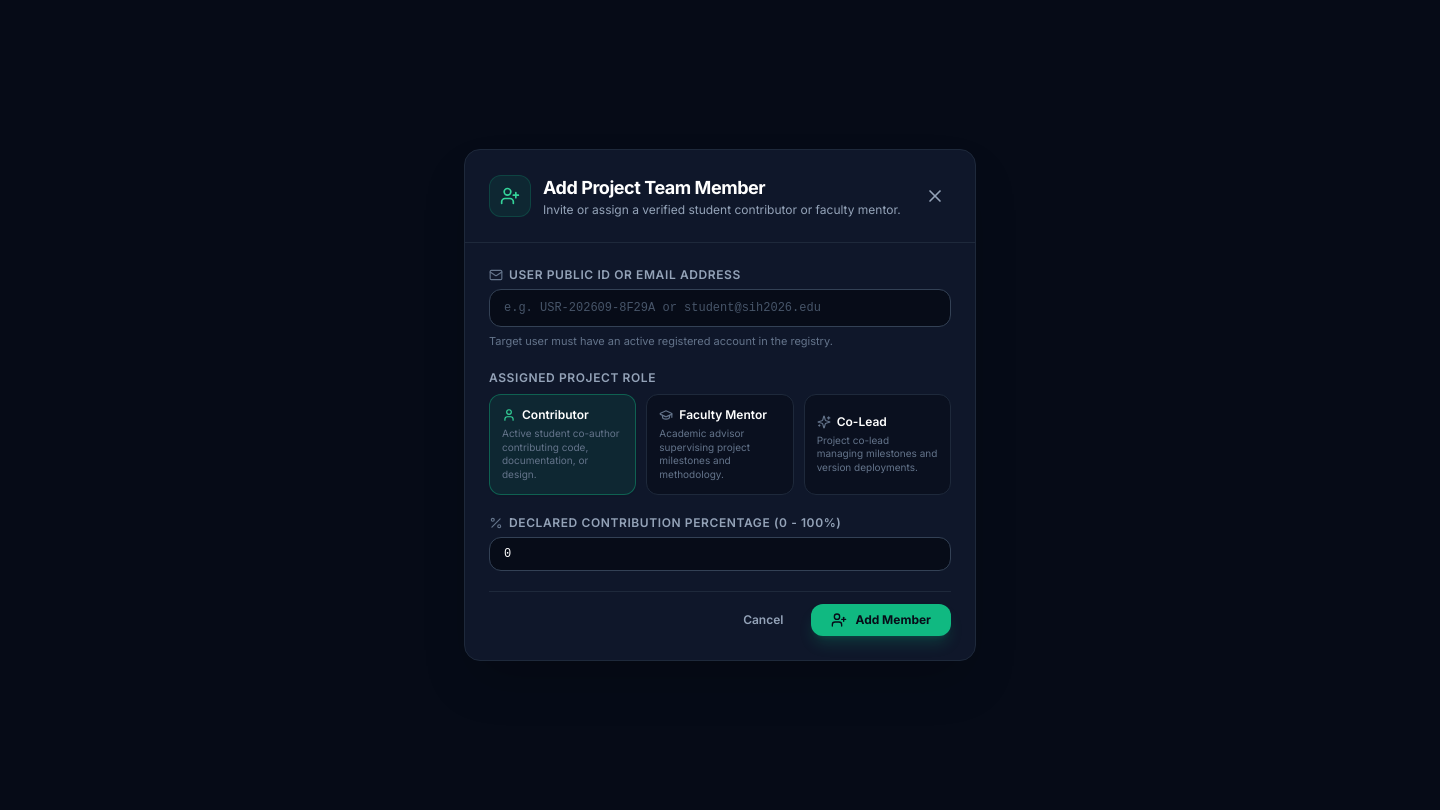
Test: Frontend Project Team / Member Management Tests › disables submit button while loading to prevent duplicate requests
Type "student@sih2026.edu" into the field with placeholder "e.g. USR-202609-8F29A or student@sih2026.edu". click: (720, 308)
box: [489,289,951,327]
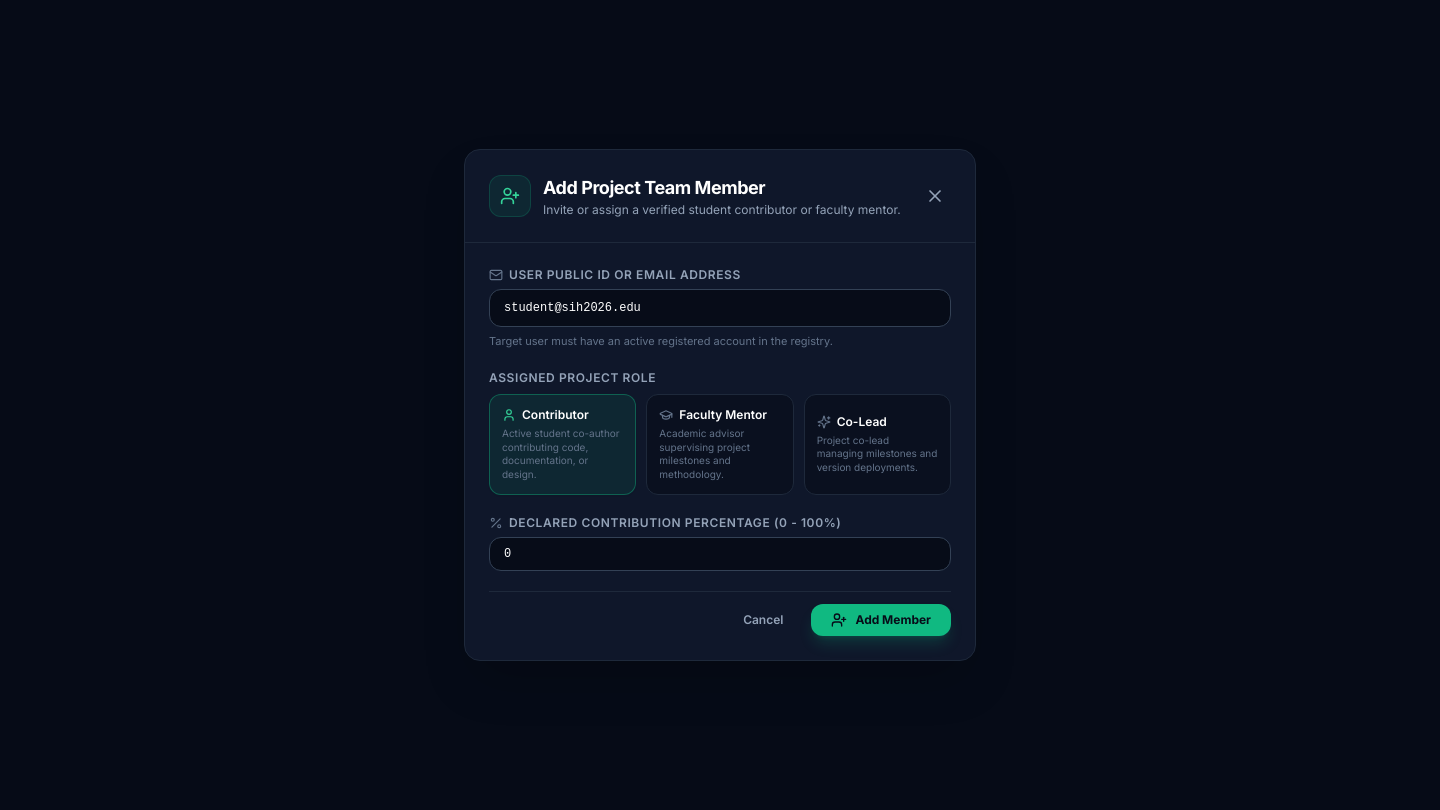
Click the button "Add Member". click: (881, 620)
box: [812,604,951,636]
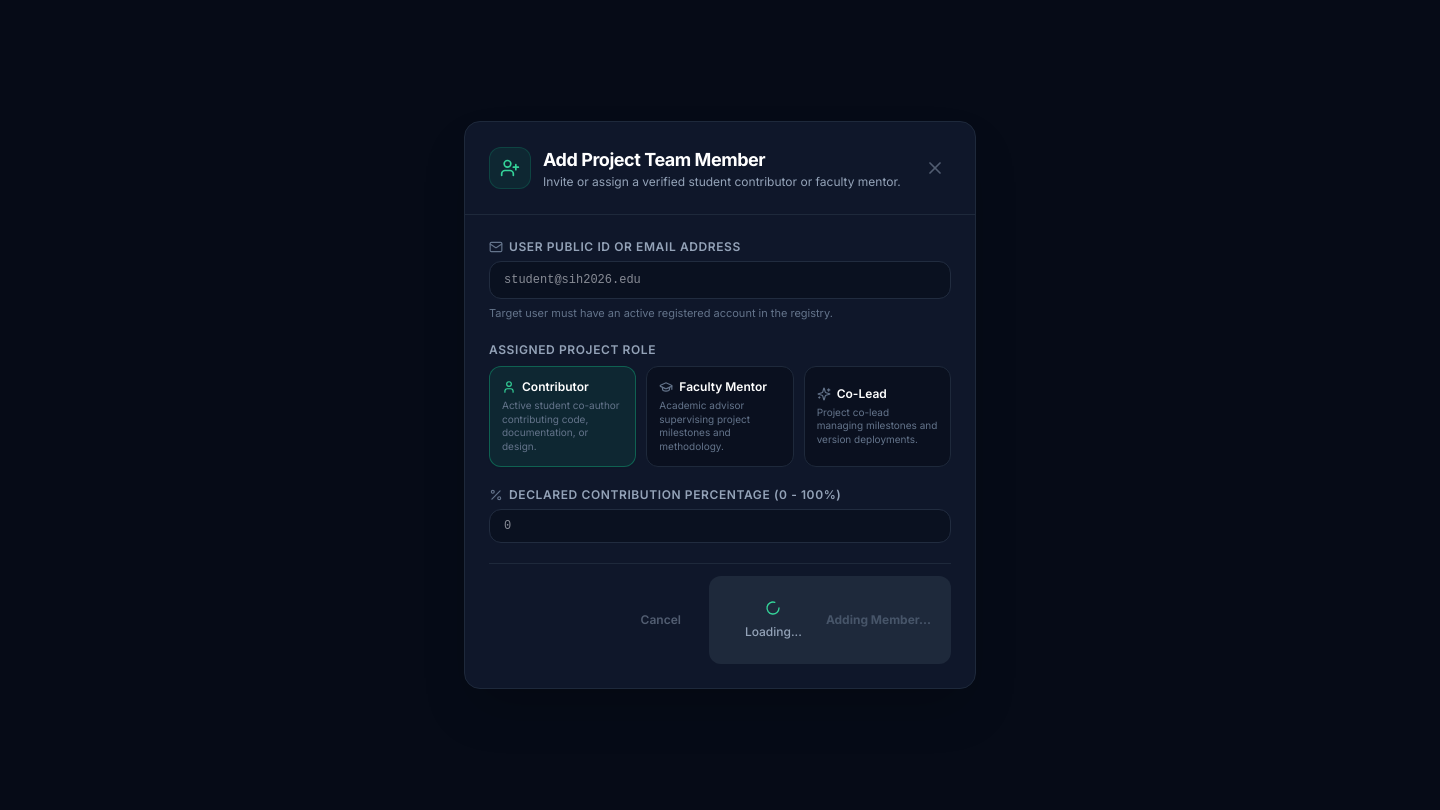
Expected: the text "Adding Member..." is shown, [826,612,931,628]
Expected: the button "Loading... Adding Member..." is disabled, [709,576,951,664]
